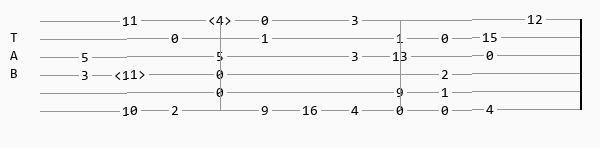0: (171, 32, 183, 45), (216, 86, 228, 99), (216, 68, 228, 81), (261, 14, 273, 27), (396, 104, 408, 117), (441, 104, 453, 117), (441, 32, 453, 45), (486, 50, 498, 63)
1: (261, 32, 273, 45), (396, 32, 408, 45), (441, 86, 453, 99)
10: (122, 104, 142, 117)
11: (122, 14, 142, 27)
12: (527, 14, 547, 27)
13: (392, 50, 412, 63)
15: (482, 32, 502, 45)
16: (302, 104, 322, 117)
2: (171, 104, 183, 117), (441, 68, 453, 81)
3: (81, 68, 93, 81), (351, 50, 363, 63), (351, 14, 363, 27)
4: (351, 104, 363, 117), (486, 104, 498, 117)
5: (81, 50, 93, 63), (216, 50, 228, 63)
9: (261, 104, 273, 117), (396, 86, 408, 99)
harmonic: (114, 68, 150, 81), (208, 14, 236, 27)
